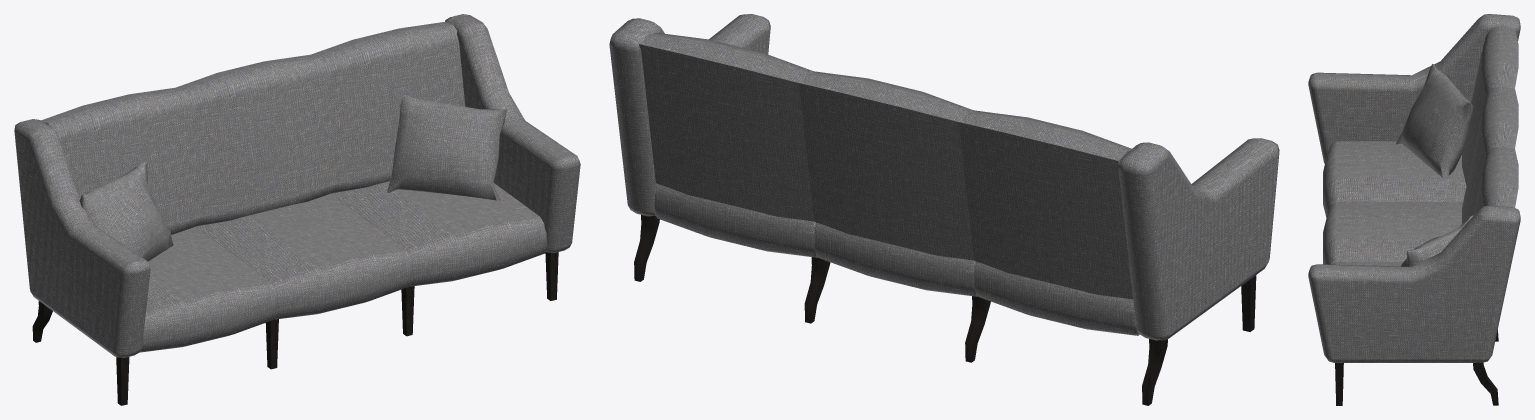
File: sofa_015.fbx
The picture shows the model from 3 angles, left to right: view 1: azimuth 30°, elevation 25°; view 2: azimuth 150°, elevation 25°; view 3: azimuth 270°, elevation 25°; orthographic projection. The views are drawn at different scales.
Parts seen in each view (by area): view 1: sofa_015; view 2: sofa_015; view 3: sofa_015.
Part boxes in pixels (box(x1,y1,x2,y2)): sofa_015: box(14, 14, 580, 405); sofa_015: box(609, 14, 1279, 405); sofa_015: box(1308, 14, 1520, 405).
Size of the model in its own units: 287 by 126 by 130.
